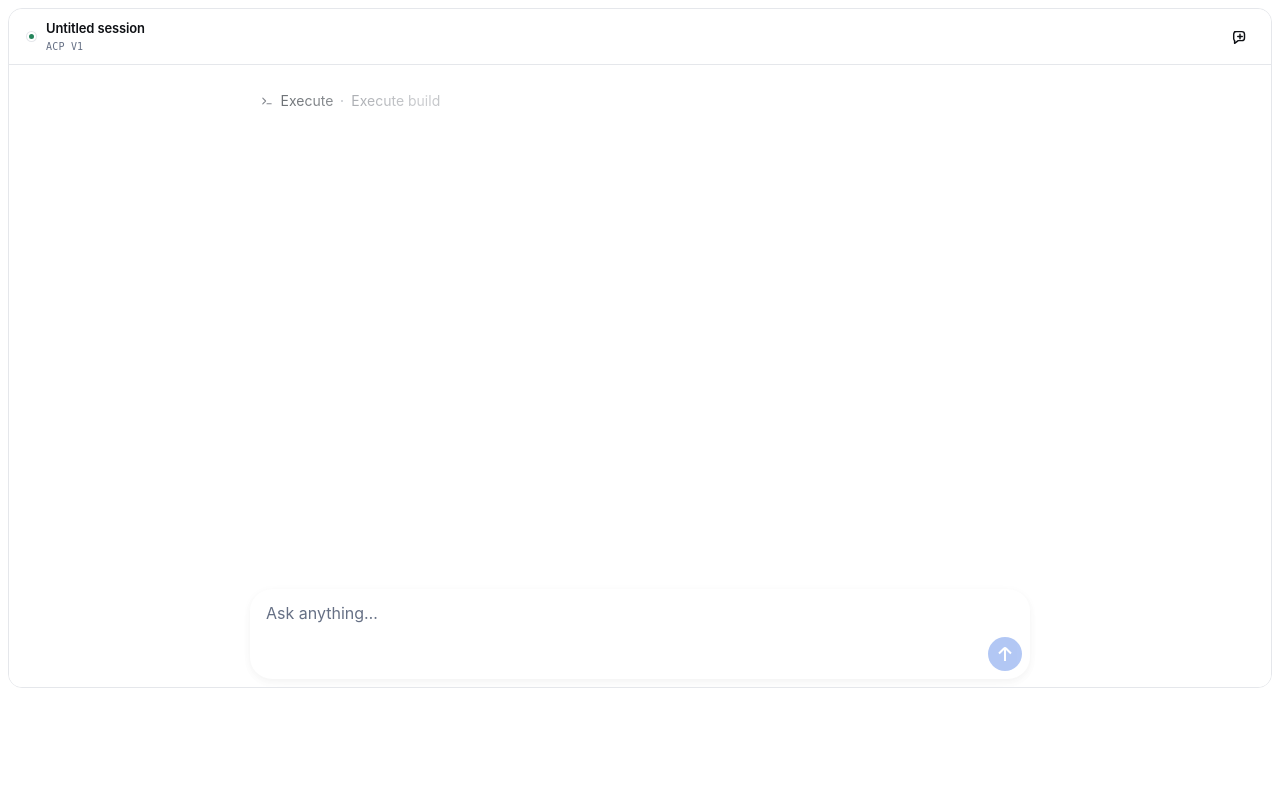
Test case: Tool rendering seam › keeps a running Execute card to its command banner
The image size is (1280, 800).
Click the text "Execute build". click: (396, 100)
box: [351,92,440,109]
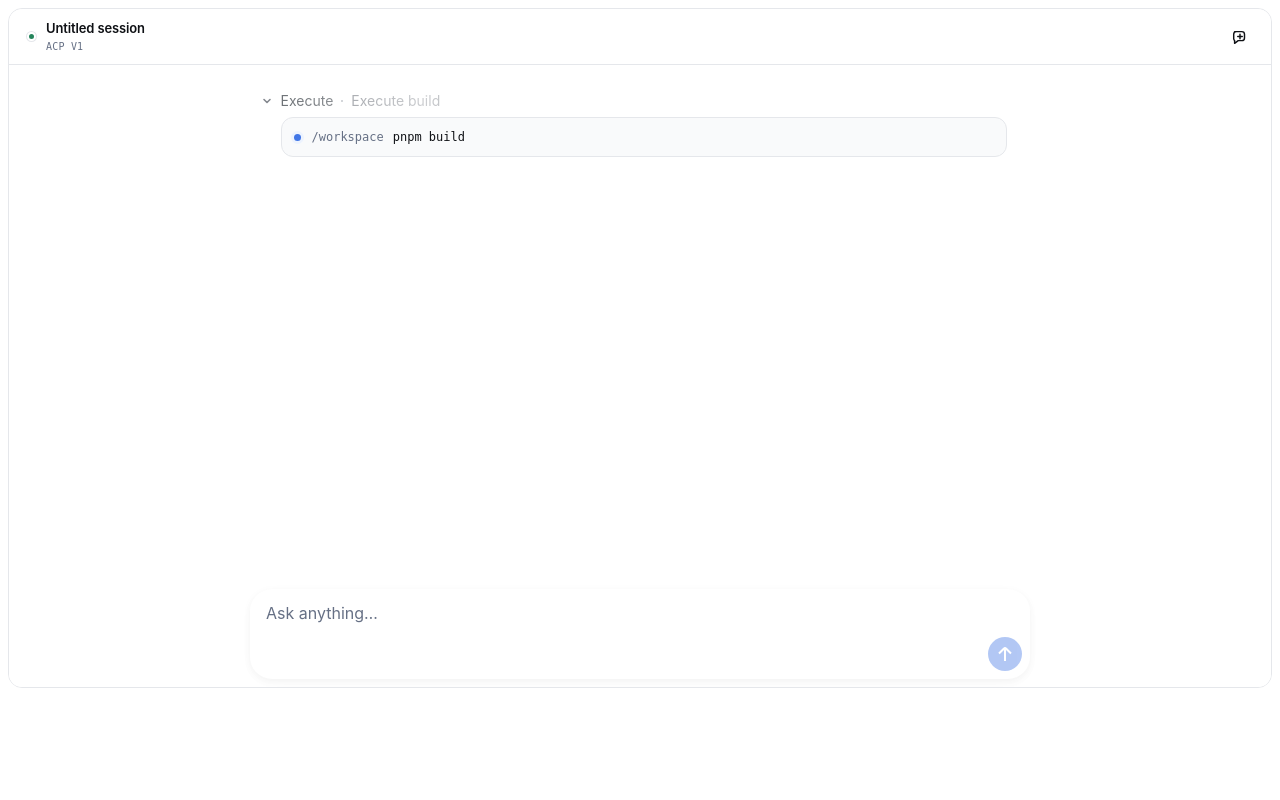
Result: the element showing "/workspace pnpm build" is shown at [280,117,1006,157]
